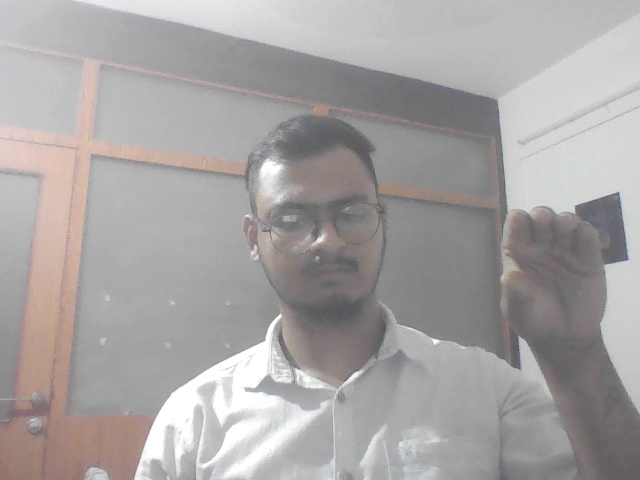NO: (490, 198, 624, 364)
